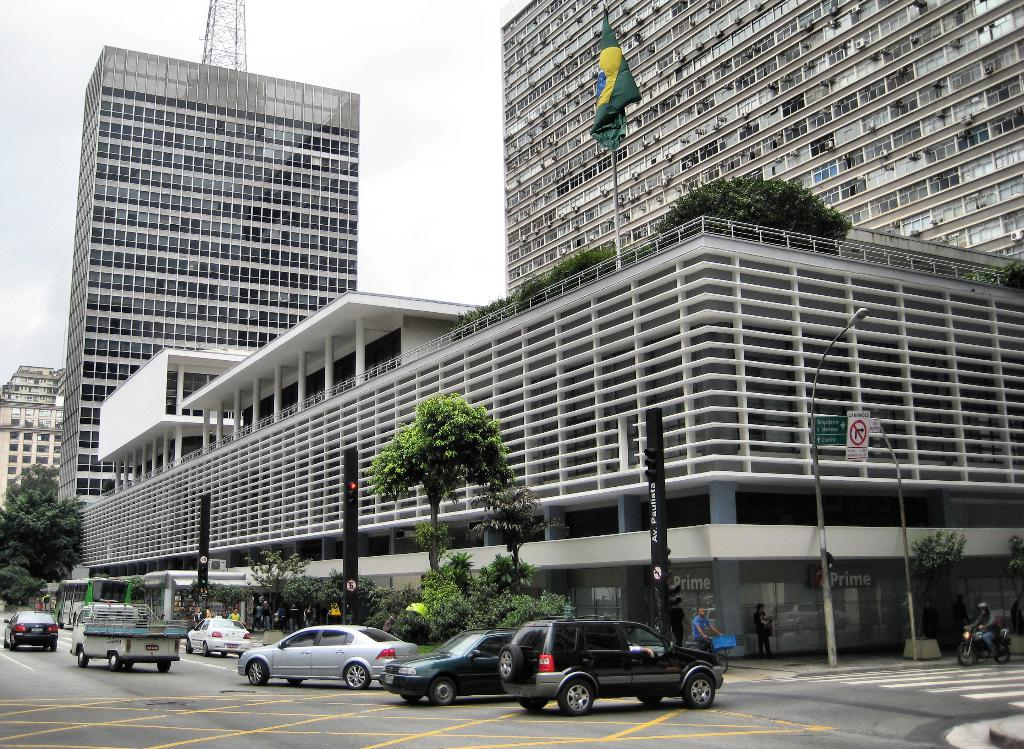car: (494, 593, 734, 726), (229, 607, 424, 695), (373, 616, 521, 717), (182, 607, 261, 665), (1, 604, 71, 657)
truck: (65, 587, 191, 687)
